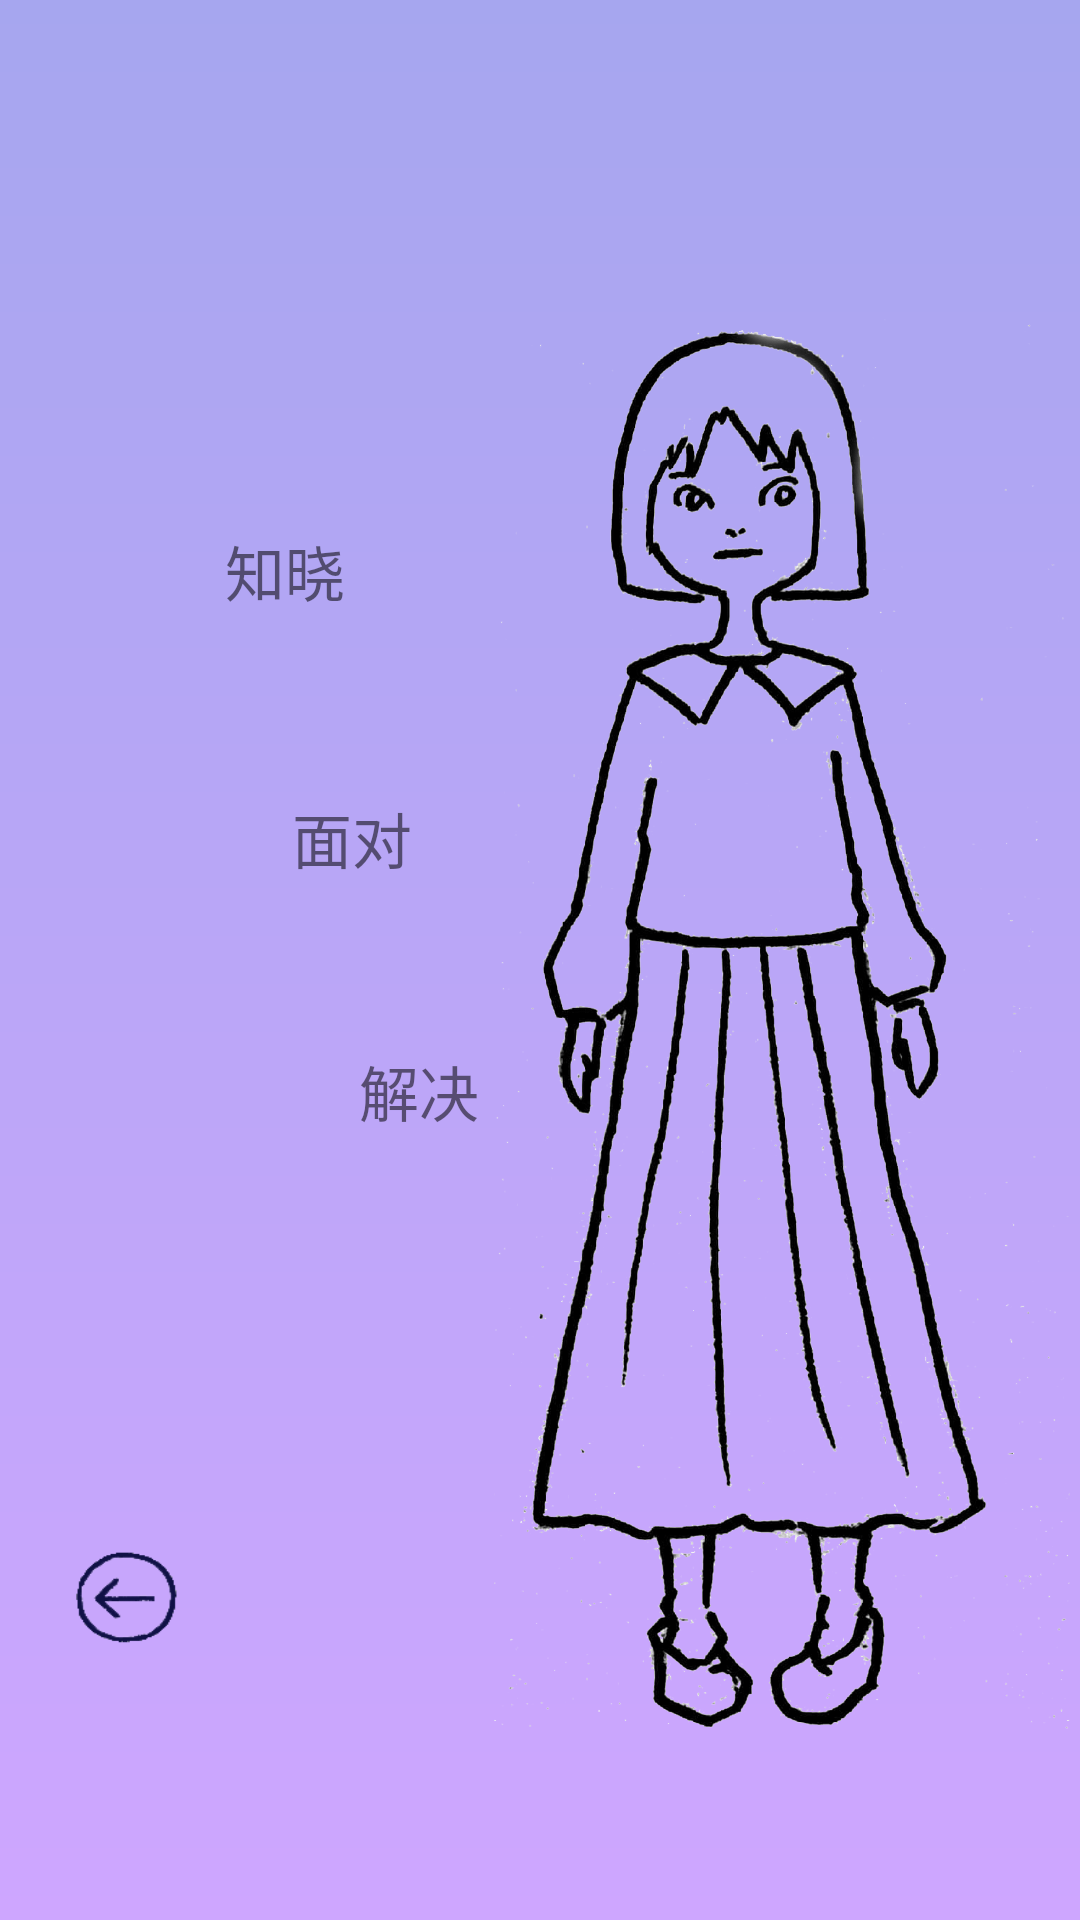

Named icons in this screenshot (1080 × 1920) and their centers, (x=x, y=y):
back: (x=126, y=1597)
